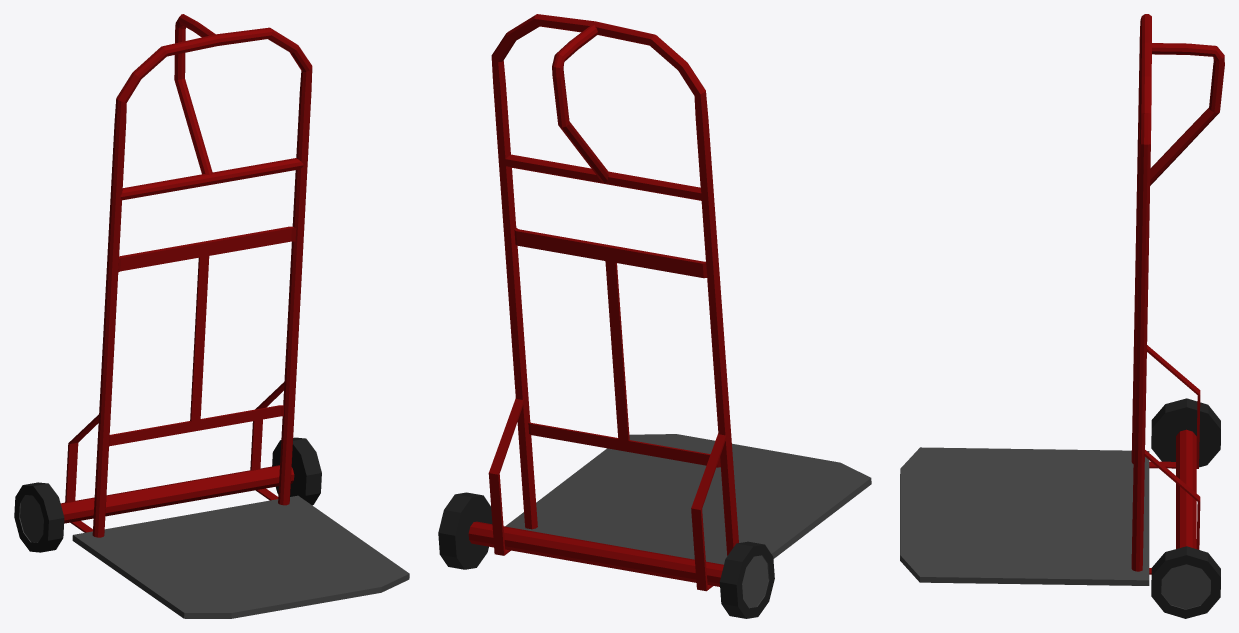
Rendered from LP_Truck.fbx.
The picture shows the model from 3 angles, left to right: view 1: azimuth 30°, elevation 25°; view 2: azimuth 150°, elevation 25°; view 3: azimuth 270°, elevation 25°; orthographic projection. The views are drawn at different scales.
Parts seen in each view (by area): view 1: LP_Truck; view 2: LP_Truck; view 3: LP_Truck.
Boxes of the visible parts, <box> form: LP_Truck: <box>14,14,409,618</box>; LP_Truck: <box>438,14,871,618</box>; LP_Truck: <box>900,14,1224,618</box>.
Size of the model in its own units: 0.6566 by 1.15 by 0.647.
